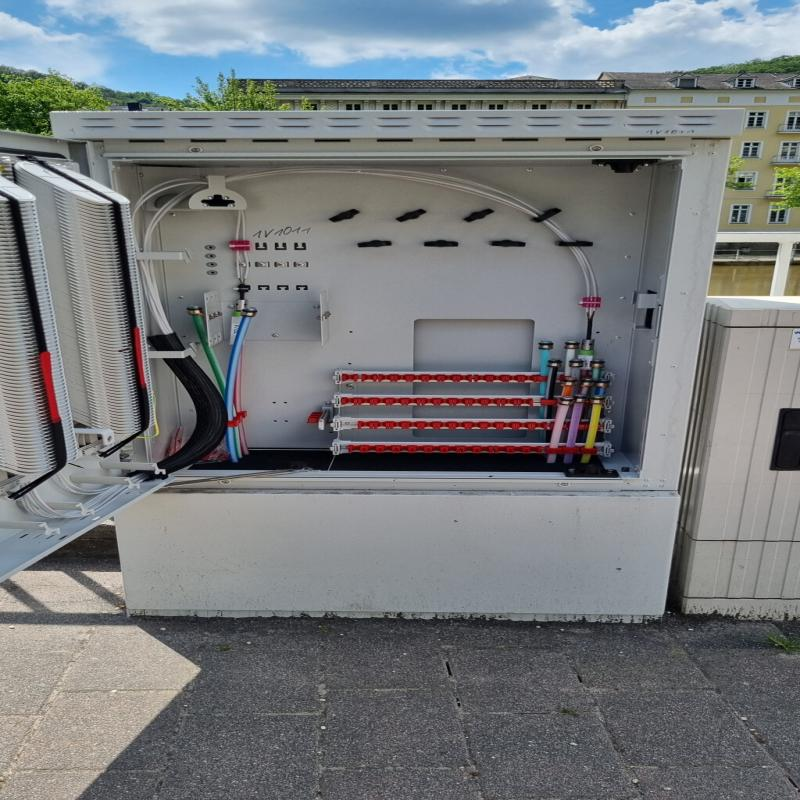NT-Gehause: (0, 111, 735, 617)
Spleiskassetten: (21, 158, 171, 444), (0, 170, 86, 483)
